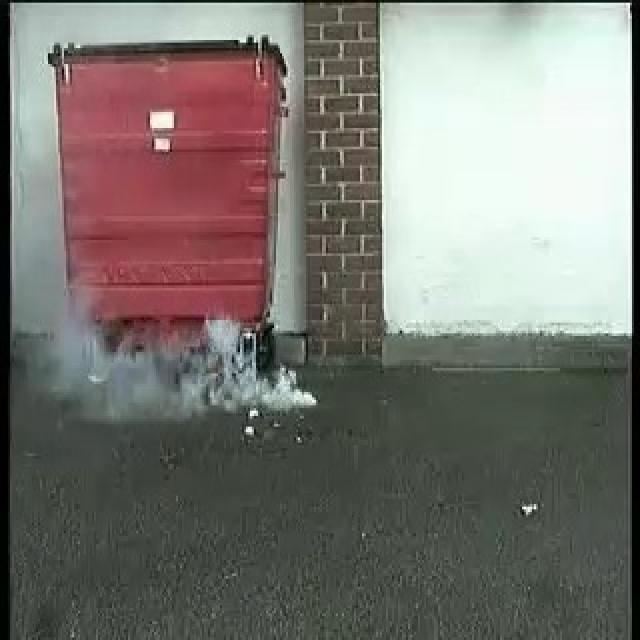smoke: (53, 320, 311, 418)
